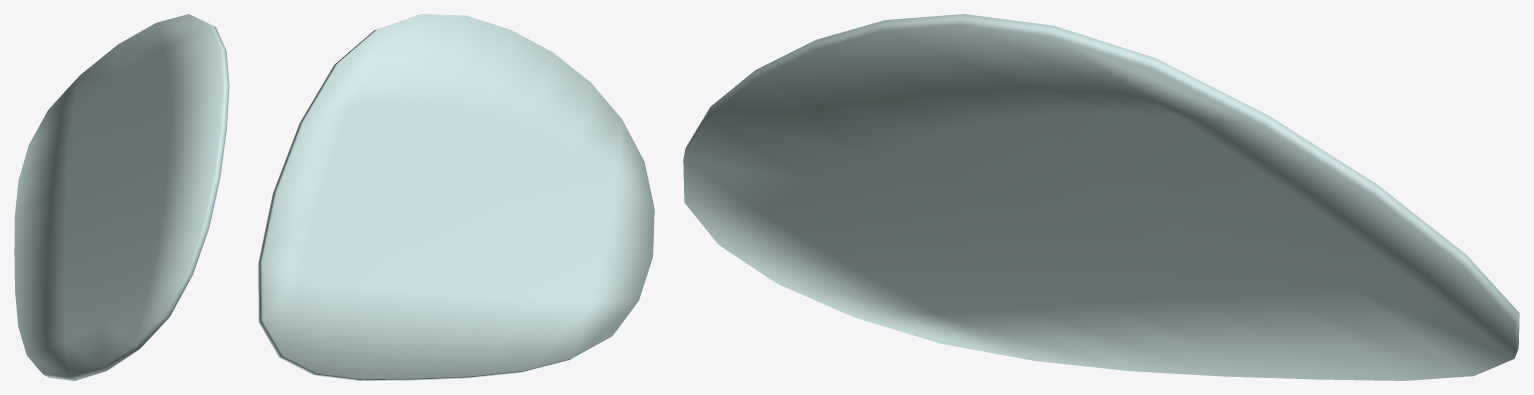
File: Articular_disc_of_sternoclavicular_joint.r_Cube.057.glb
3 views of the same model, side by side, from view 1: azimuth 30°, elevation 25°; view 2: azimuth 150°, elevation 25°; view 3: azimuth 270°, elevation 25° (orthographic). The views are drawn at different scales.
Parts seen in each view (by area): view 1: Articular_disc_of_sternoclavicular_joint.r_Cube.057; view 2: Articular_disc_of_sternoclavicular_joint.r_Cube.057; view 3: Articular_disc_of_sternoclavicular_joint.r_Cube.057.
Part boxes in pixels (left/top/right/bottom): Articular_disc_of_sternoclavicular_joint.r_Cube.057: left=14, top=14, right=229, bottom=380; Articular_disc_of_sternoclavicular_joint.r_Cube.057: left=258, top=14, right=654, bottom=380; Articular_disc_of_sternoclavicular_joint.r_Cube.057: left=683, top=14, right=1519, bottom=380.
Bounding box in the file's own units: 0.0156 × 0.0199 × 0.031.
